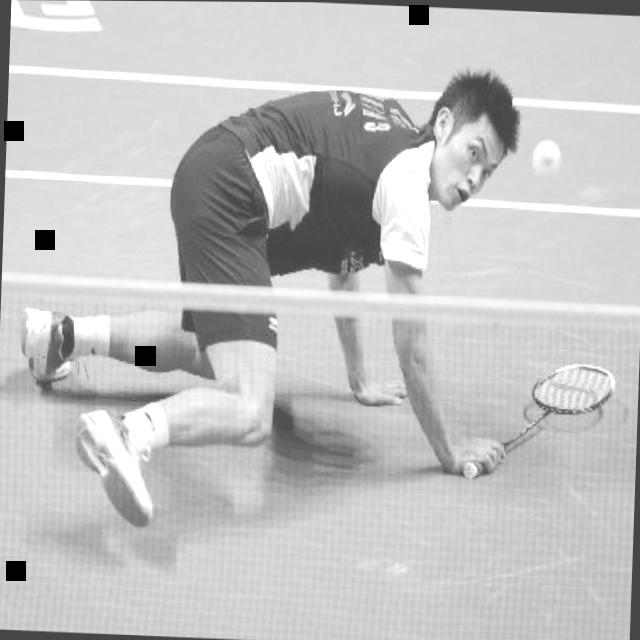Fall-Detected: (8, 23, 538, 537)
